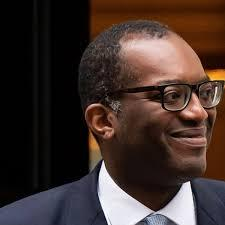Persons: (71, 21, 225, 203)
